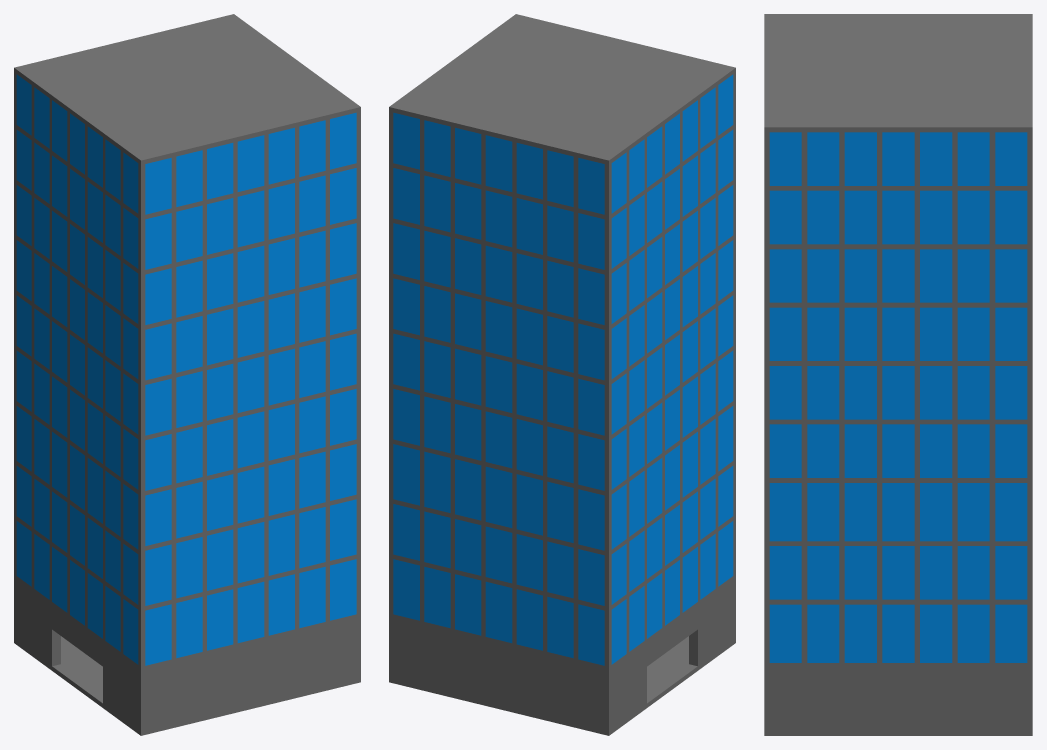
Rendered from big-tower.obj.
3 renders of one model, left to right at view 1: azimuth 30°, elevation 25°; view 2: azimuth 150°, elevation 25°; view 3: azimuth 270°, elevation 25°, orthographic. The views are drawn at different scales.
Bounding box in the file's own units: 50 × 125 × 50.
1 material, 1 textured.
